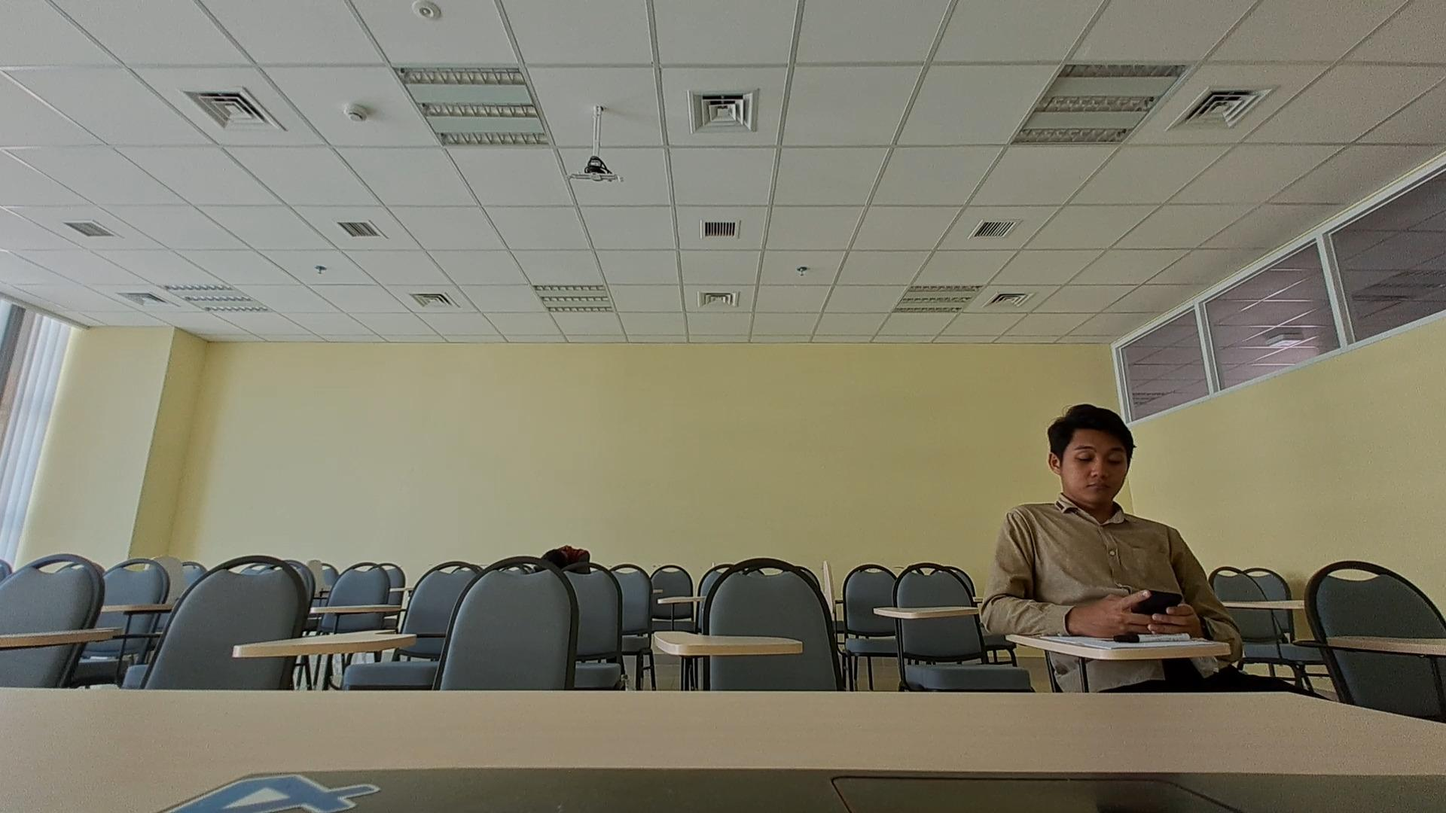phone: (987, 404, 1235, 650)
